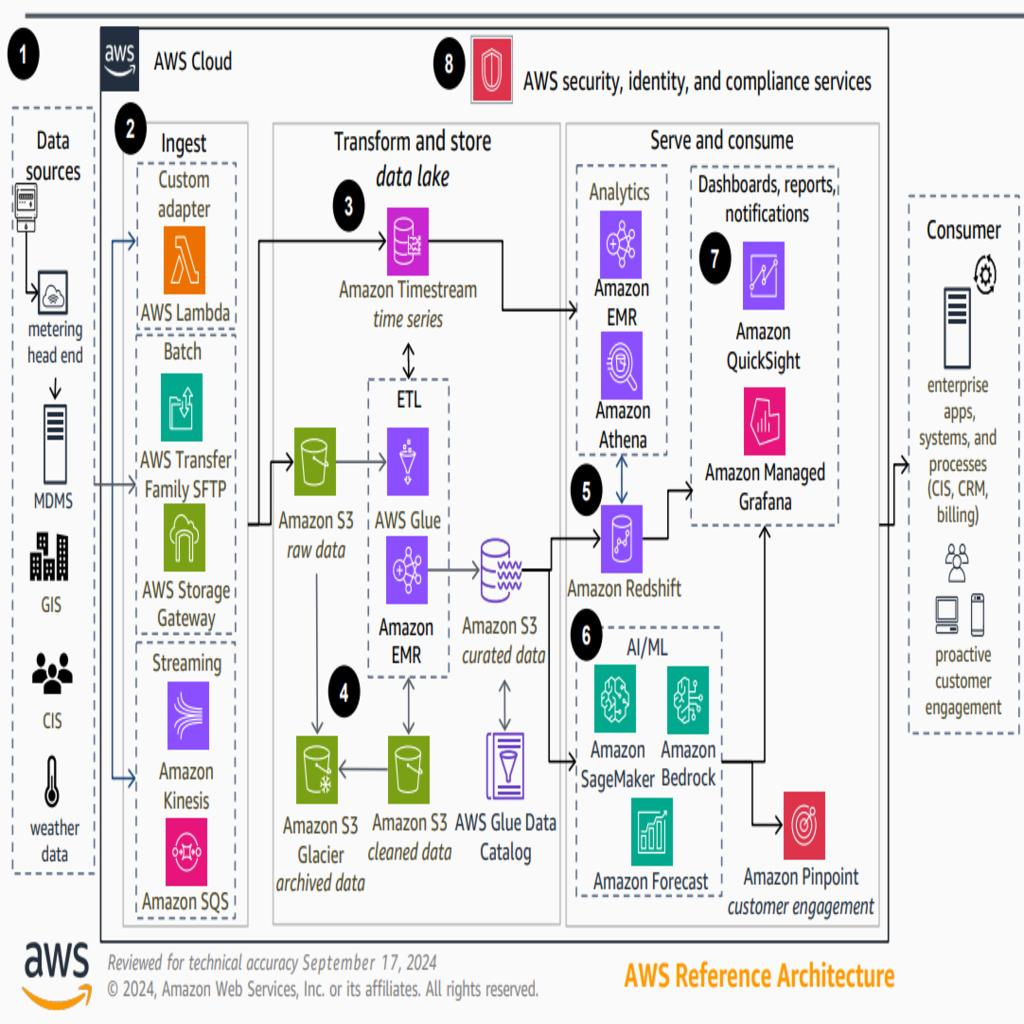actor: (34, 644, 77, 712), (943, 524, 986, 592), (34, 412, 77, 479), (34, 761, 77, 828), (943, 289, 986, 356), (943, 583, 986, 650), (943, 637, 986, 704), (34, 174, 77, 240), (34, 528, 77, 594)
compute: (742, 386, 786, 454), (742, 238, 786, 305), (164, 371, 207, 438), (164, 675, 207, 742), (386, 545, 429, 612), (599, 207, 642, 274), (599, 330, 642, 397), (599, 668, 642, 735), (673, 668, 716, 735), (164, 218, 207, 284), (164, 520, 207, 586), (164, 822, 207, 888), (386, 428, 429, 494), (628, 798, 670, 865), (780, 788, 822, 854)
data_flow: (762, 454, 766, 724), (311, 545, 316, 729), (405, 599, 410, 742), (504, 614, 510, 727), (473, 276, 596, 281), (643, 758, 760, 762), (618, 410, 623, 492), (499, 758, 599, 762), (405, 273, 410, 345), (67, 481, 130, 486), (618, 580, 623, 632), (335, 458, 378, 464), (238, 514, 278, 520), (429, 562, 468, 568), (516, 562, 552, 568), (642, 494, 685, 499), (53, 288, 58, 330), (238, 238, 278, 243), (386, 348, 429, 352), (117, 238, 133, 243), (117, 781, 133, 786), (878, 522, 892, 527)
database_storage: (292, 738, 335, 806), (386, 738, 429, 806), (386, 207, 429, 274), (599, 504, 642, 571), (292, 428, 335, 494), (475, 532, 518, 598), (486, 730, 528, 796)
network_security: (472, 33, 515, 100)
trust_boundary: (98, 24, 889, 944), (572, 128, 878, 922), (262, 128, 554, 922), (130, 137, 241, 903), (14, 108, 98, 876), (907, 190, 1022, 738), (690, 164, 838, 528), (576, 626, 722, 900), (576, 162, 666, 454), (366, 378, 448, 670)
